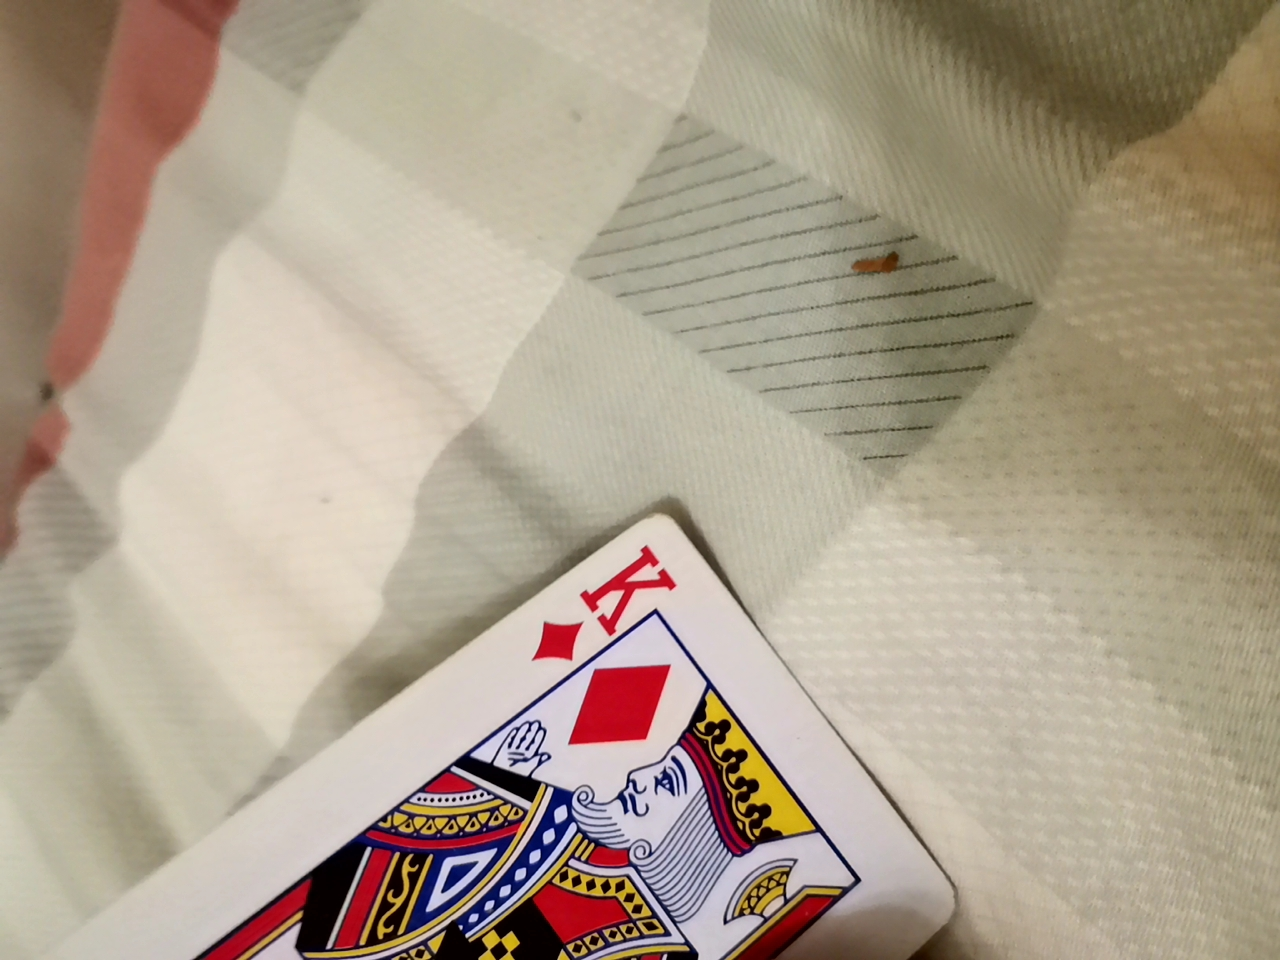fk k: (57, 520, 968, 957)
